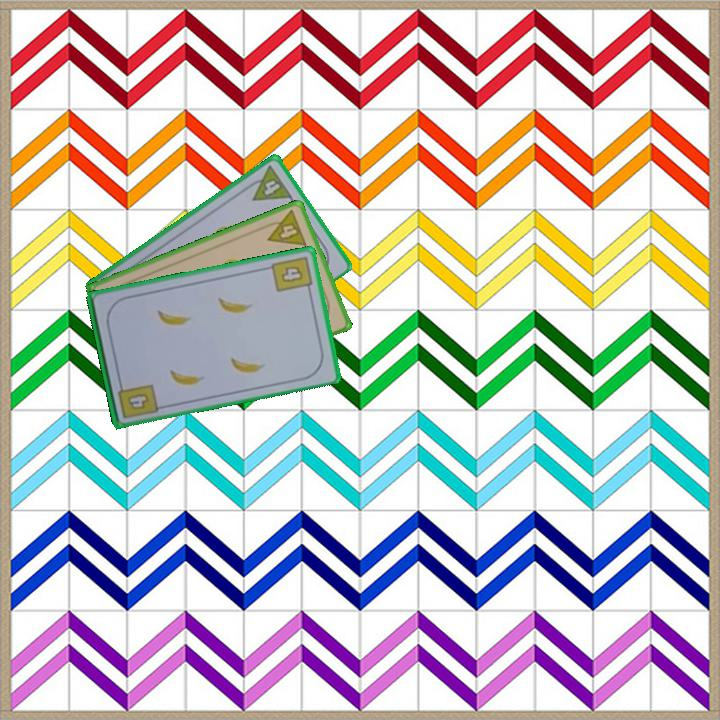4b: (268, 252, 315, 296), (114, 377, 161, 421)
4p: (241, 162, 295, 204), (259, 206, 310, 249)
